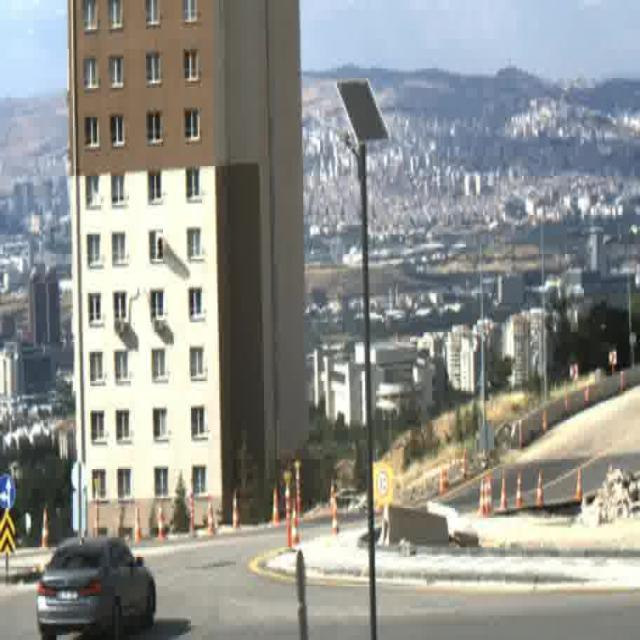Car: (35, 533, 156, 640)
